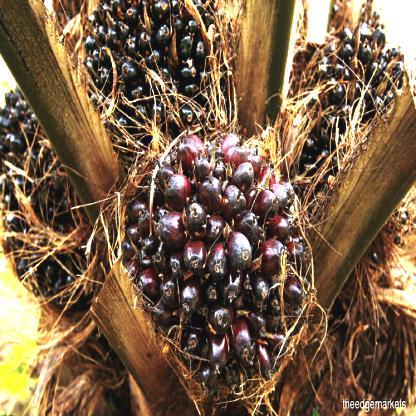1: (118, 130, 326, 368)
palm-oil: (76, 0, 245, 136), (284, 28, 416, 190), (0, 85, 88, 307)
